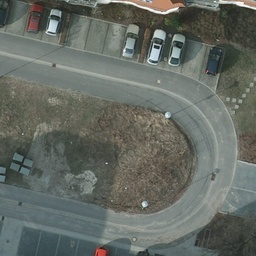car: (144, 30, 165, 66), (121, 23, 142, 59), (26, 2, 44, 33), (169, 36, 186, 66), (45, 9, 61, 36), (207, 48, 221, 77)
